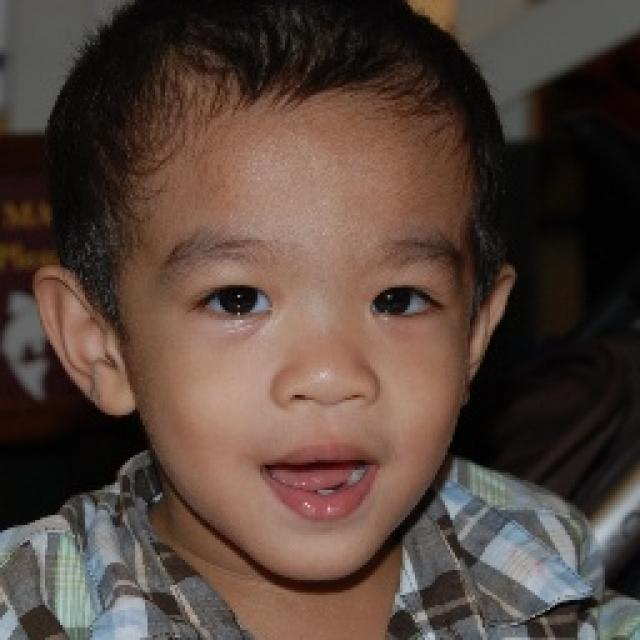earlobe: (34, 268, 140, 420), (460, 263, 516, 387)
